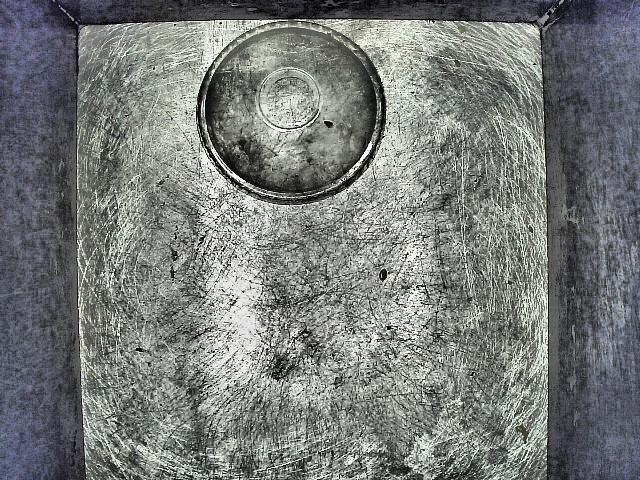Plastic: (206, 18, 383, 217)
